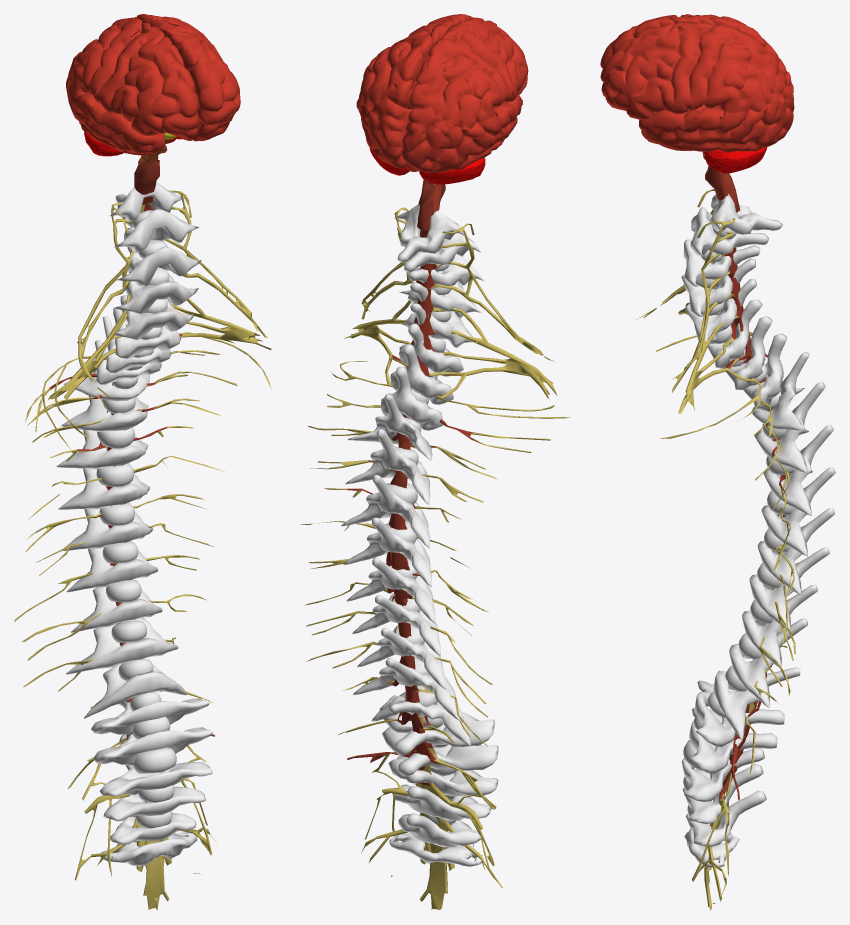
Rendered from nervous final.fbx.
The picture shows the model from 3 angles, left to right: view 1: azimuth 30°, elevation 25°; view 2: azimuth 150°, elevation 25°; view 3: azimuth 270°, elevation 25°; orthographic projection.
Visible parts, largest first — view 1: Material2.001; view 2: Material2.001; view 3: Material2.001.
Part boxes in pixels (bbox=[...]): Material2.001: bbox=[14, 14, 271, 910]; Material2.001: bbox=[300, 14, 570, 909]; Material2.001: bbox=[600, 14, 835, 910].
Size of the model in its own units: 402 by 1528 by 367.
